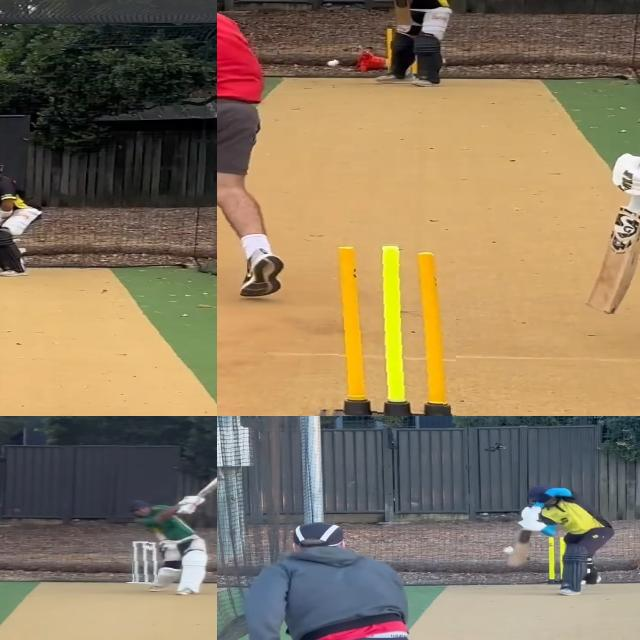Cricket ball: (327, 59, 341, 68), (142, 544, 156, 552), (502, 546, 516, 554)
Stumps: (313, 241, 456, 416), (131, 540, 158, 584)
